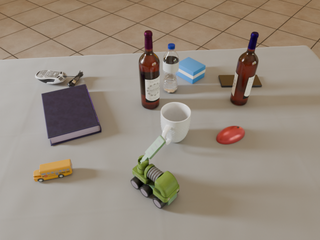book: (41, 84, 101, 146)
bottle: (230, 32, 259, 105), (139, 30, 160, 109), (163, 43, 179, 93)
box: (177, 57, 205, 84)
cup: (161, 102, 191, 145)
mouse: (216, 126, 245, 144), (35, 70, 68, 84)
phone: (219, 74, 262, 87)
toy_car: (131, 135, 179, 209), (34, 159, 72, 182)
